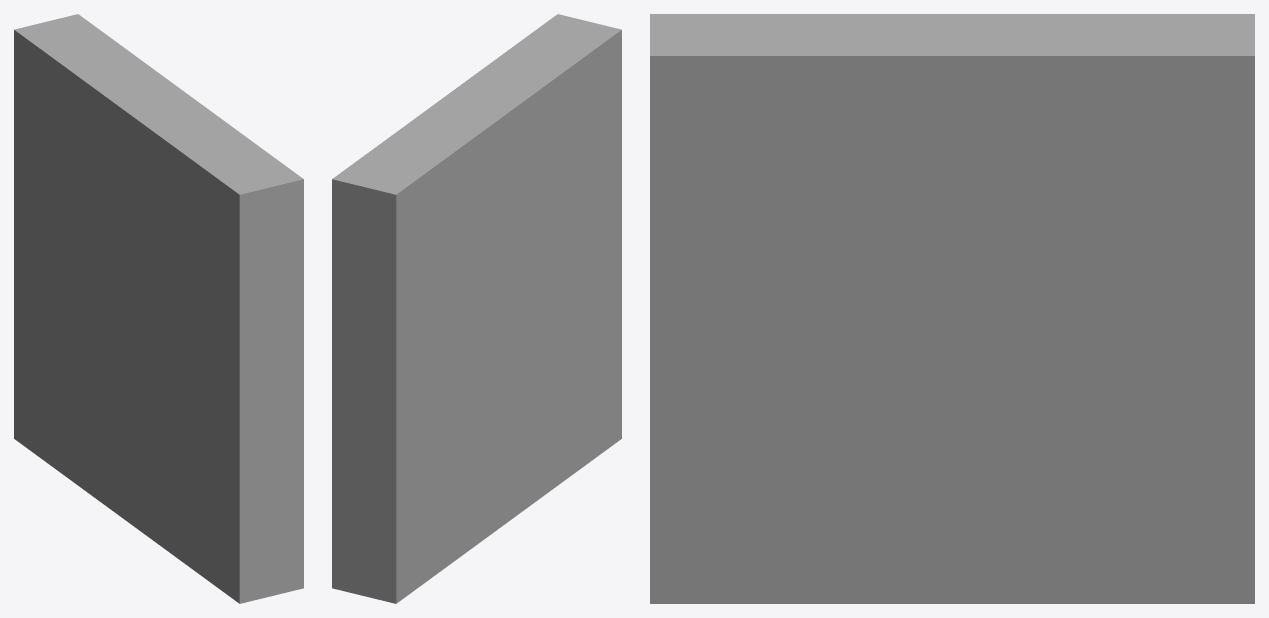
The model's file is Window01_light.fbx.
The picture shows the model from 3 angles, left to right: view 1: azimuth 30°, elevation 25°; view 2: azimuth 150°, elevation 25°; view 3: azimuth 270°, elevation 25°; orthographic projection. The views are drawn at different scales.
Visible parts, largest first — view 1: Cube#2; view 2: Cube#2; view 3: Cube#2.
Boxes of the visible parts, x1,y1,x2,y2 form: Cube#2: (14, 14, 303, 603); Cube#2: (332, 14, 621, 603); Cube#2: (650, 14, 1254, 603).
Bounding box in the file's own units: 0.3283 × 2 × 2.
2 materials, 2 textured.
